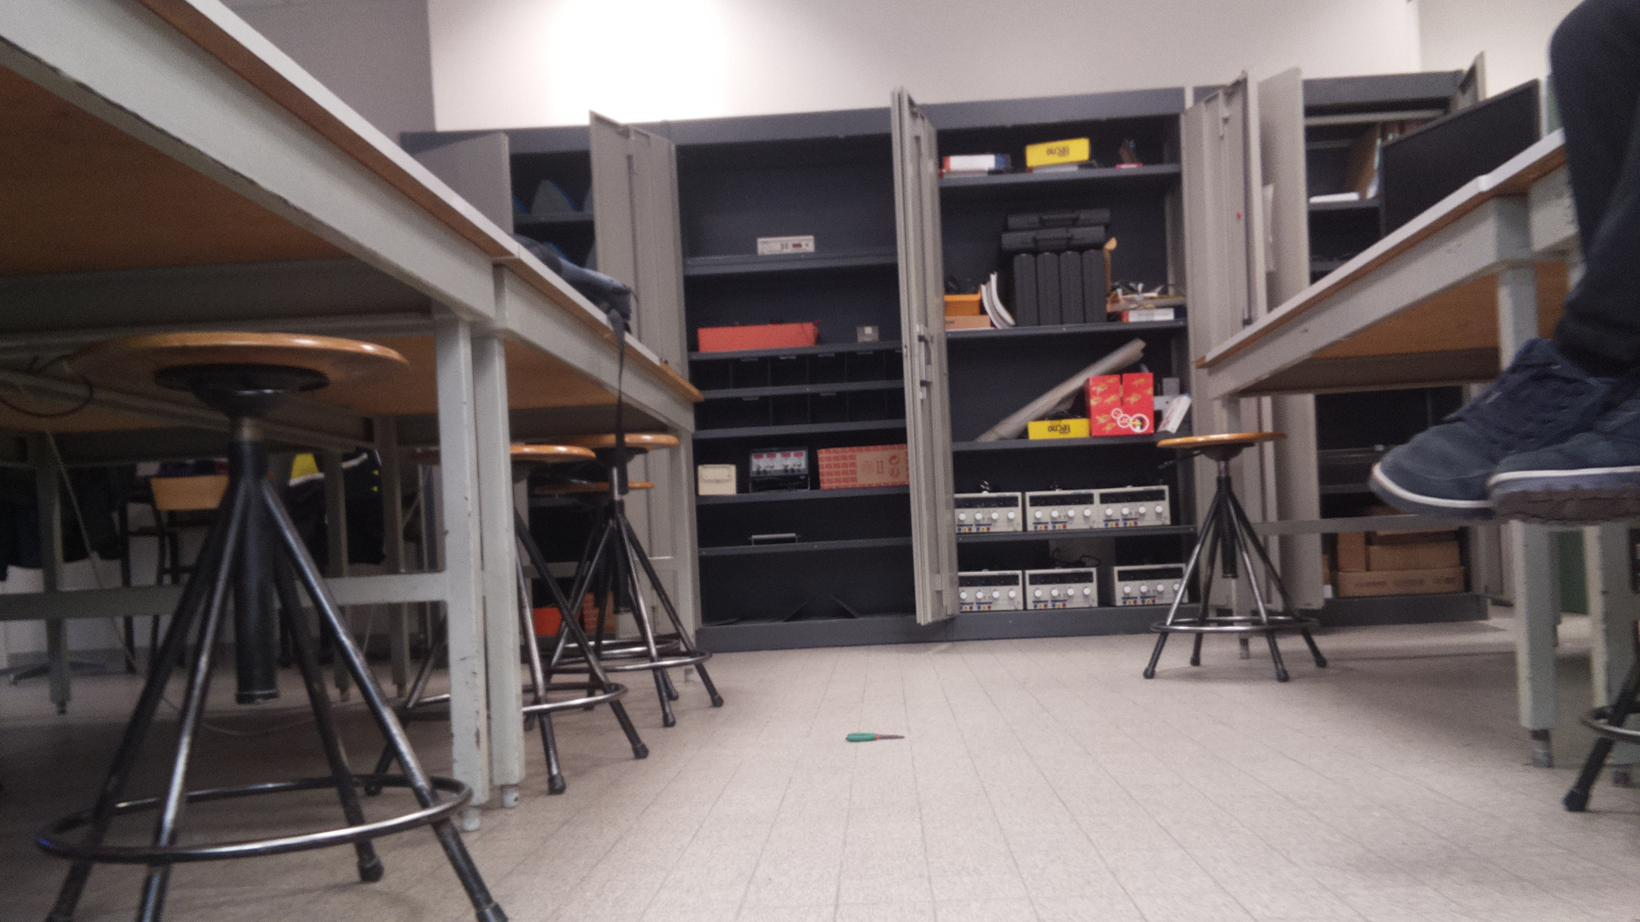small: (845, 729, 908, 746)
